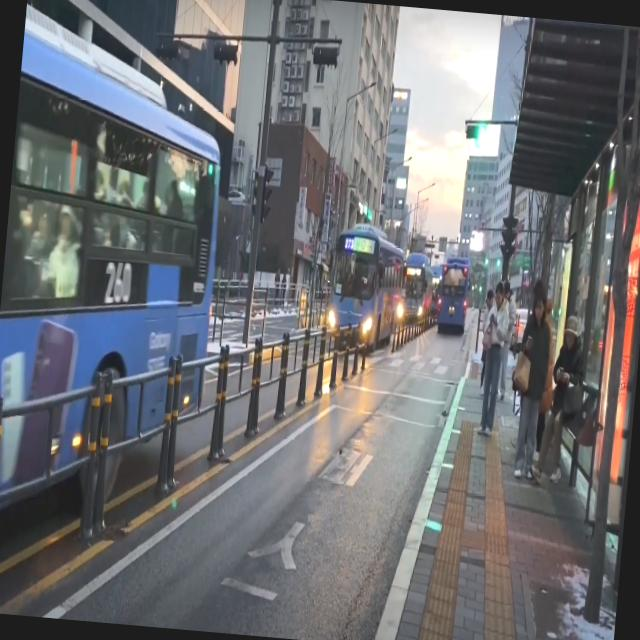bus-number: (344, 237, 354, 249)
